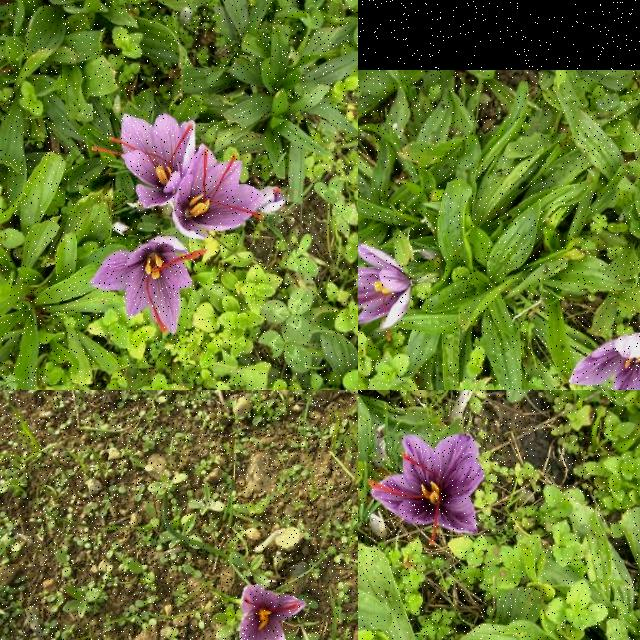flower: (368, 435, 484, 545), (90, 238, 206, 334), (93, 114, 197, 208), (172, 143, 264, 239), (358, 244, 415, 339), (569, 332, 640, 390), (239, 586, 304, 640), (259, 186, 285, 214)
